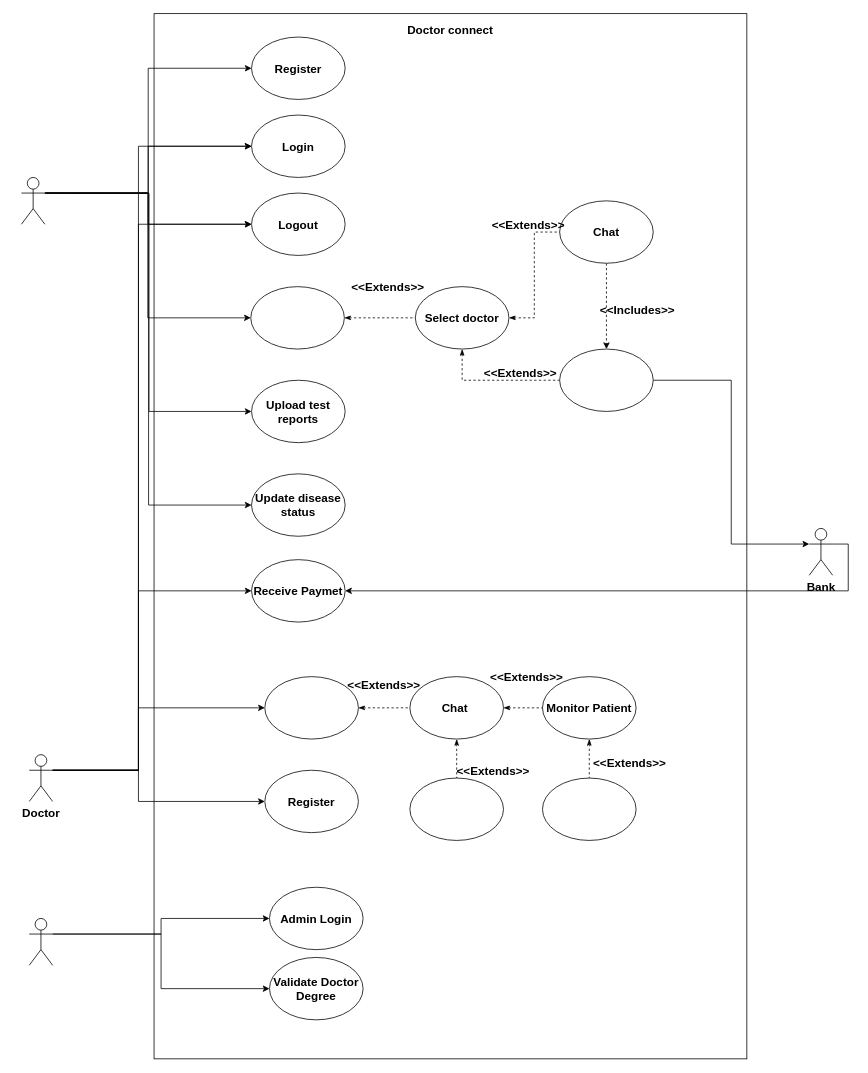
Image size: 868x1073. Some labels were removed from this diagram. The centre of each missing label's shape, as x and y in pixels:
"Admin" goes at point 40,941.
"Patient" goes at point 33,200.
"Pay doctor" goes at point 606,379.
"Prescribe Patent" goes at point 589,808.
"View Doctors" goes at point 297,317.
"View patients list" goes at point 311,707.
"View test-reports" goes at point 456,808.
